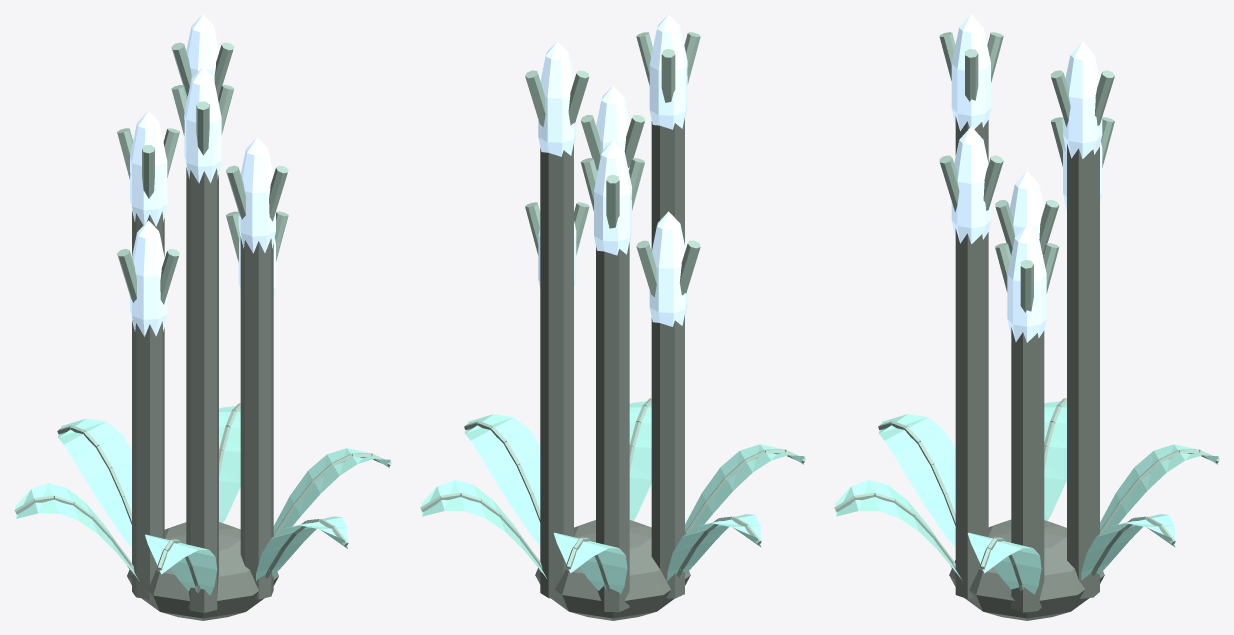
Rendered from mineralreed-mature.glb.
3 renders of one model, left to right at view 1: azimuth 30°, elevation 25°; view 2: azimuth 150°, elevation 25°; view 3: azimuth 270°, elevation 25°, orthographic. The views are drawn at different scales.
Parts seen in each view (by area): view 1: mineralreed.sway-pivot; view 2: mineralreed.sway-pivot; view 3: mineralreed.sway-pivot.
Boxes of the visible parts, left/top/right/bottom form: mineralreed.sway-pivot: left=14, top=14, right=391, bottom=620; mineralreed.sway-pivot: left=420, top=14, right=805, bottom=620; mineralreed.sway-pivot: left=834, top=14, right=1219, bottom=620.
Bounding box in the file's own units: 0.7962 × 1.3 × 0.7809.
